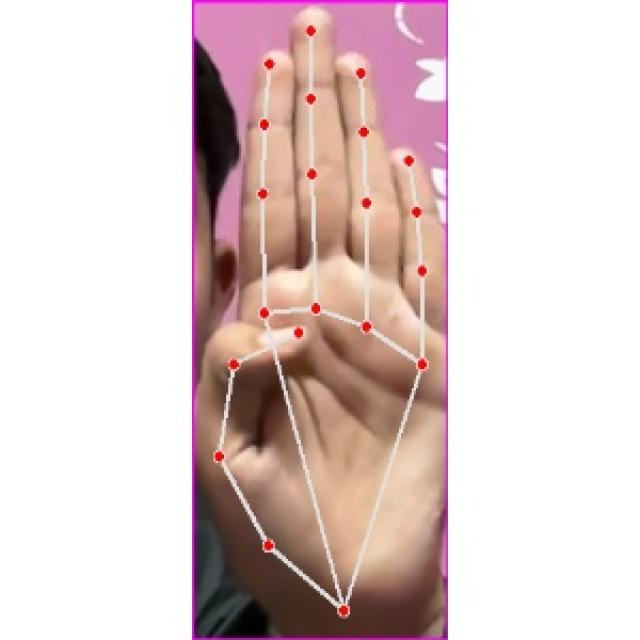B: (198, 0, 446, 636)
